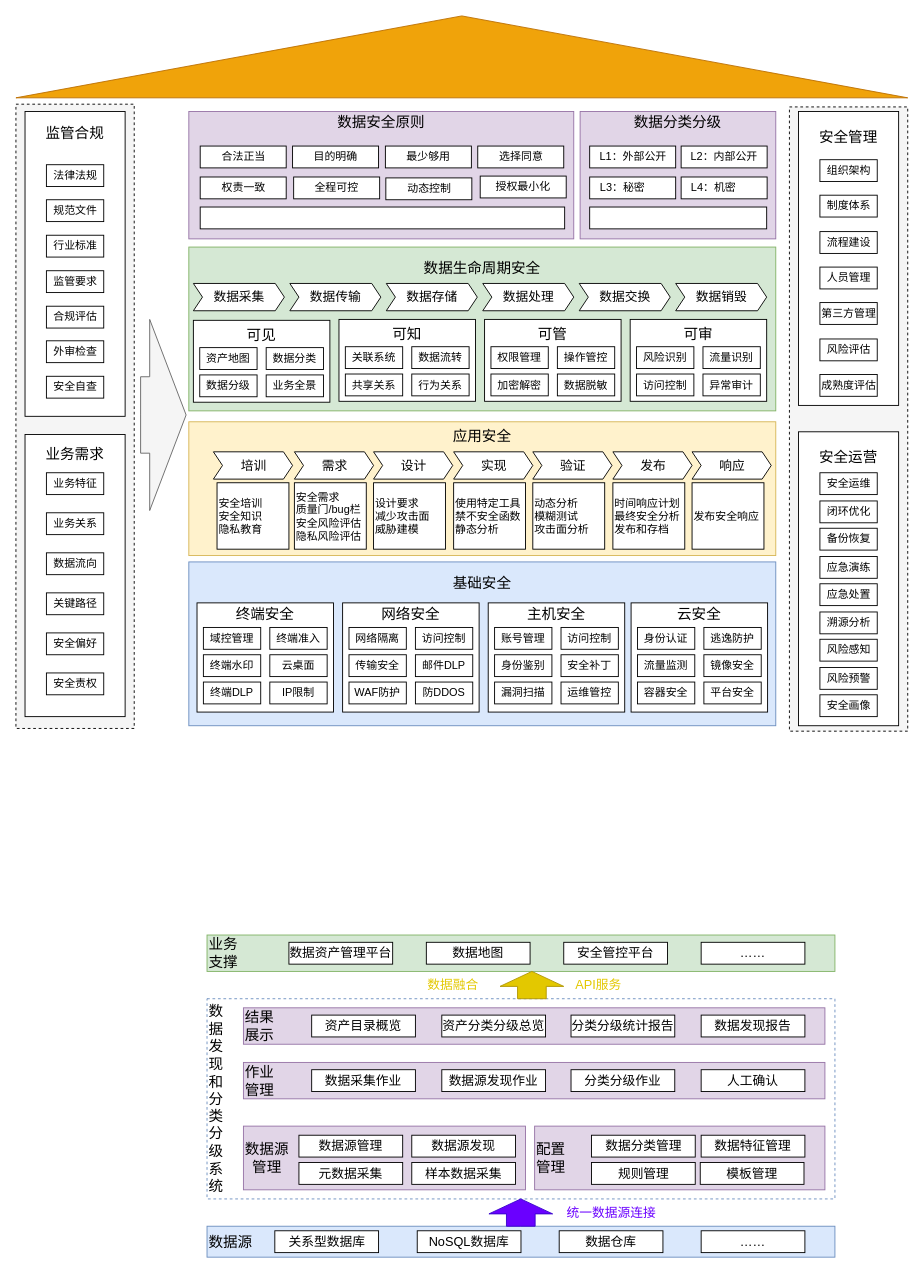
This 924x1273 diagram has some shape labels left out. The centre of each missing label's shape, as x and y in pixels:
"L5：绝密" belongs at pixel 678 217.
"推 进" belongs at pixel 163 414.
"理念目标 科技向善，数据有度，让数据自由、安全流通" belongs at pixel 461 56.
"让数据自由、安全流通，保障数据价值" belongs at pixel 382 217.
